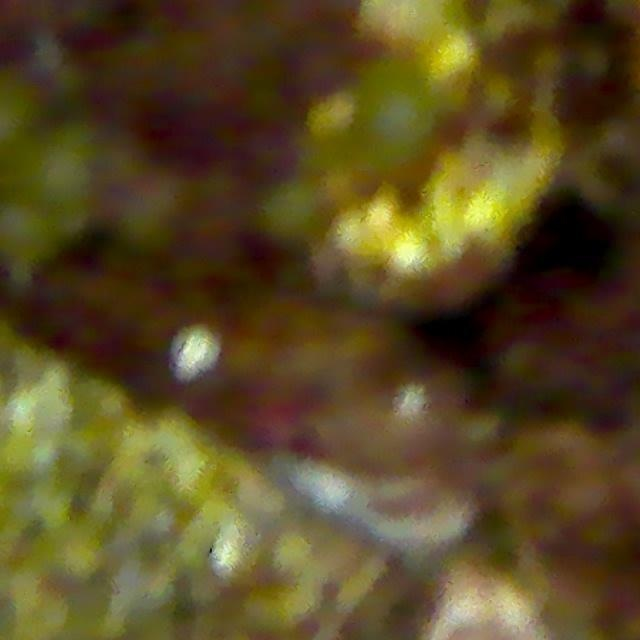SeaGrape: (19, 126, 106, 213), (360, 76, 440, 160), (259, 177, 330, 247), (0, 200, 58, 265), (556, 466, 613, 524), (577, 508, 632, 563)
